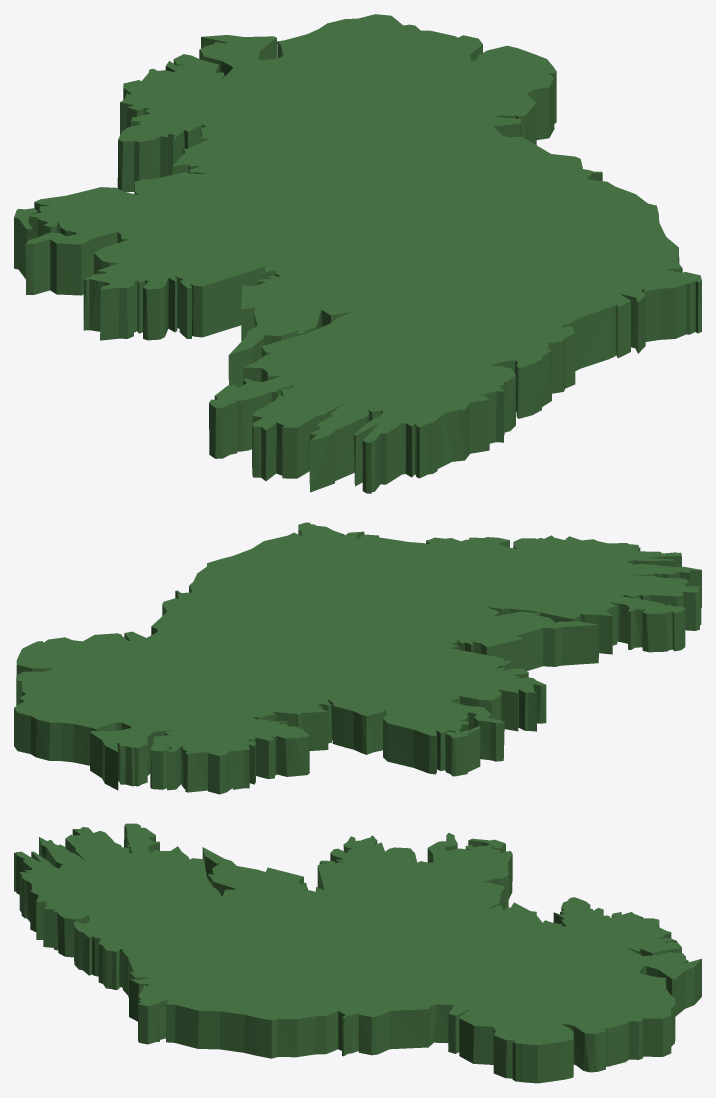
The model's file is ireland-map.glb.
3 views of the same model, one above another, from view 1: azimuth 30°, elevation 25°; view 2: azimuth 150°, elevation 25°; view 3: azimuth 270°, elevation 25° (orthographic). The views are drawn at different scales.
Parts seen in each view (by area): view 1: Curve; view 2: Curve; view 3: Curve.
Boxes of the visible parts, x1,y1,x2,y2 form: Curve: (14, 14, 701, 493); Curve: (14, 522, 701, 794); Curve: (14, 823, 701, 1083).
Size of the model in its own units: 3.81 by 0.3271 by 4.99.
